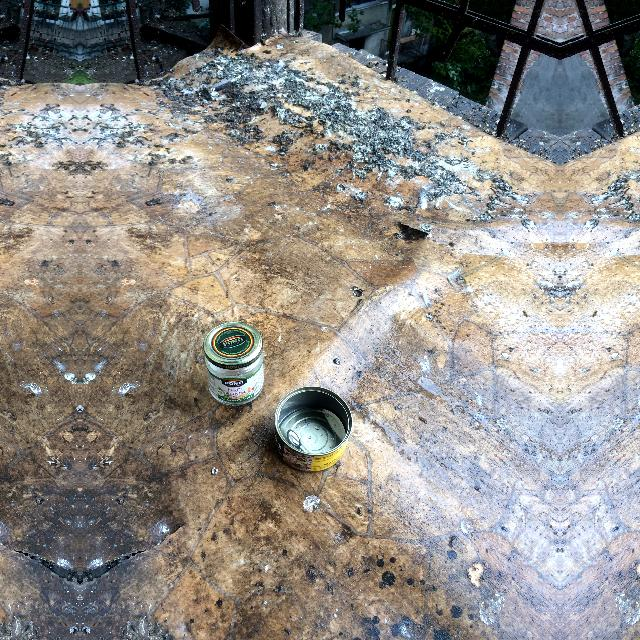Metal: (265, 382, 365, 474), (200, 318, 280, 382)
